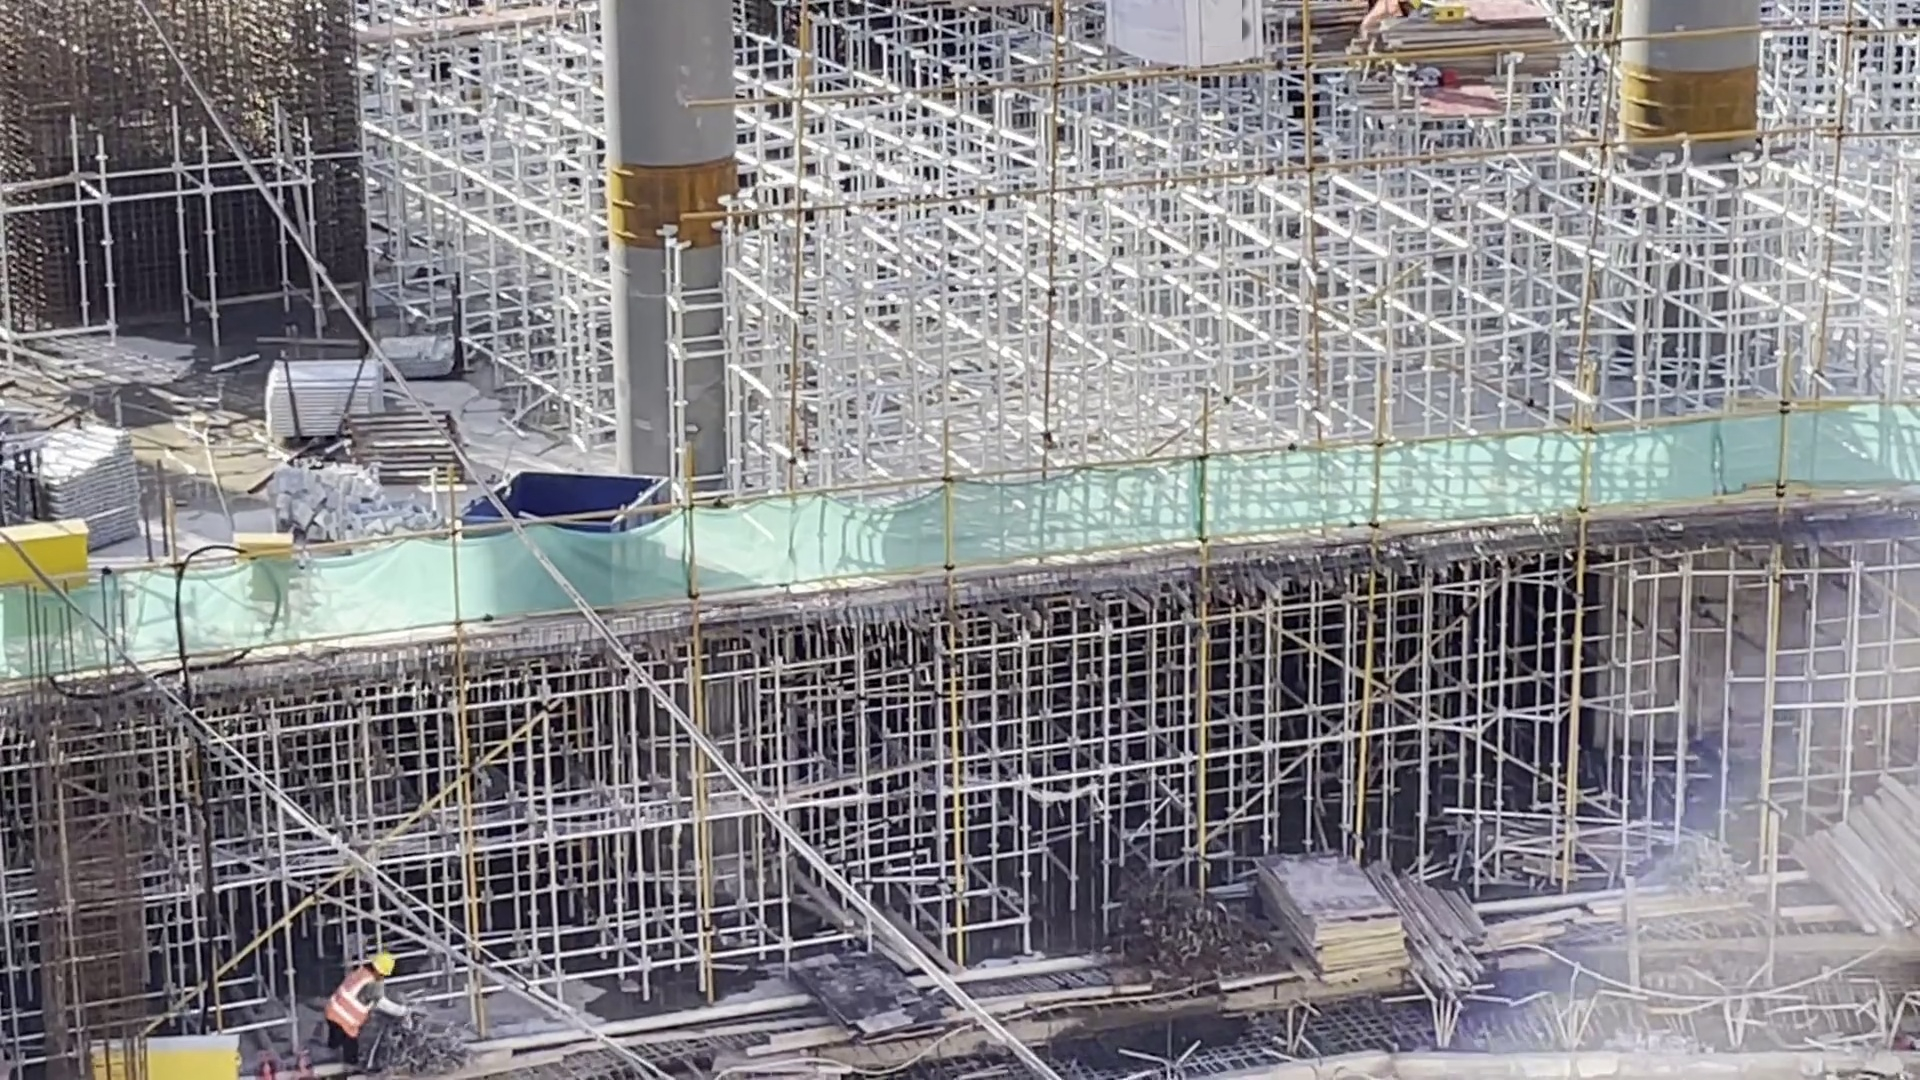board: (1273, 866, 1424, 981), (1411, 1, 1564, 72)
ebox: (63, 1031, 307, 1080), (11, 524, 98, 592), (223, 527, 264, 587)
helmet: (366, 947, 396, 979), (1406, 1, 1419, 13)
hopper: (489, 461, 656, 579)
person: (321, 958, 396, 1050), (1356, 1, 1426, 39)
scaffold: (1, 421, 143, 551), (286, 362, 393, 436)
vest: (319, 973, 380, 1036), (1354, 1, 1400, 35)
wood: (1821, 746, 1920, 905)
